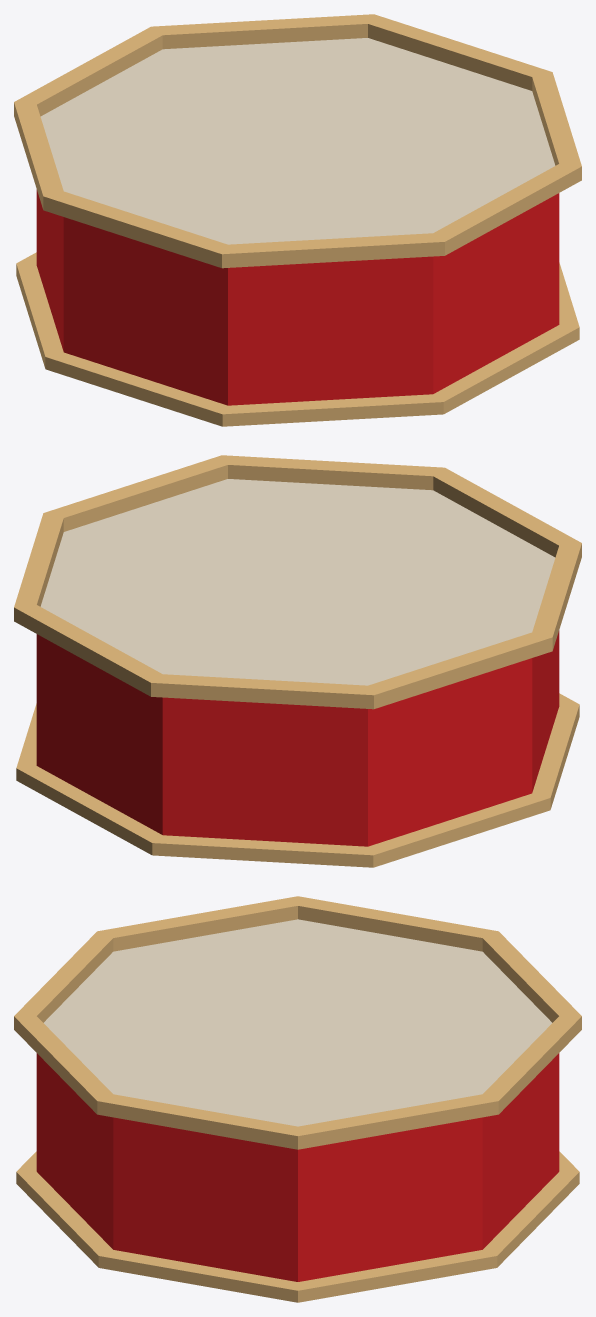
File: tambor.fbx
The picture shows the model from 3 angles, top to bottom: view 1: azimuth 30°, elevation 25°; view 2: azimuth 150°, elevation 25°; view 3: azimuth 270°, elevation 25°; orthographic projection. The views are drawn at different scales.
Parts seen in each view (by area): view 1: Cylinder; view 2: Cylinder; view 3: Cylinder.
Boxes of the visible parts, <box> form: Cylinder: <box>14,14,581,426</box>; Cylinder: <box>14,455,581,867</box>; Cylinder: <box>14,896,581,1302</box>.
Bounding box in the file's own units: 109 × 35.39 × 109.
